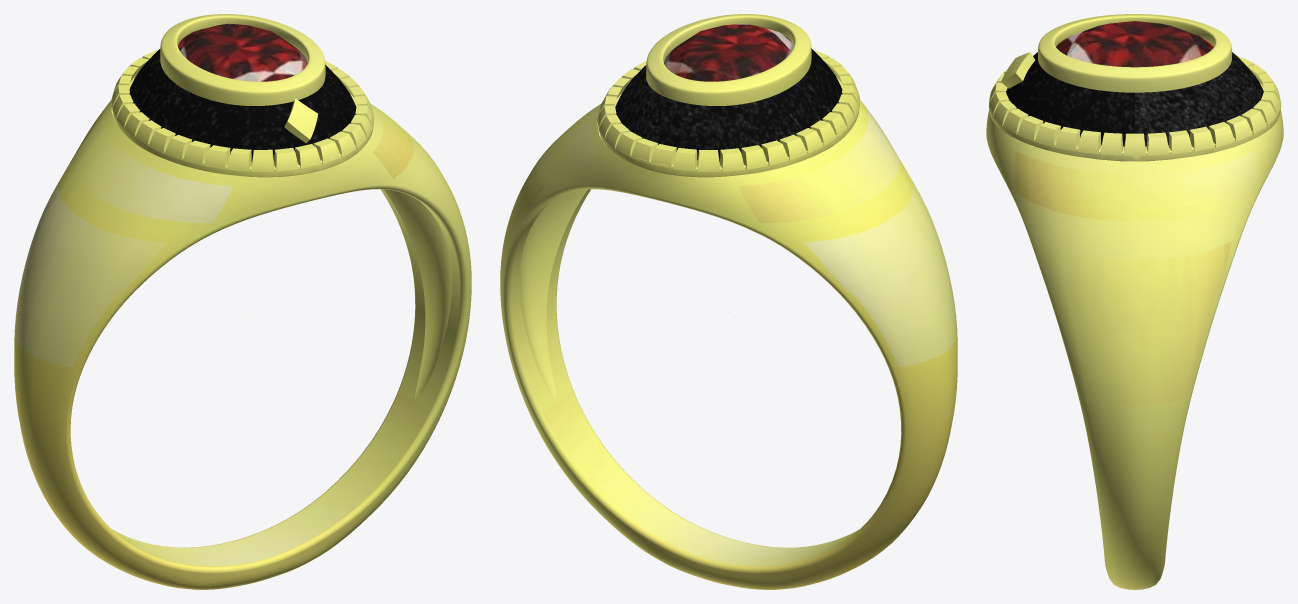
Rendered from ring35.glb.
3 renders of one model, left to right at view 1: azimuth 30°, elevation 25°; view 2: azimuth 150°, elevation 25°; view 3: azimuth 270°, elevation 25°, orthographic.
Visible parts, largest first — view 1: body, black, core; view 2: body, black, core; view 3: body, black, core.
Part boxes in pixels (<box>): body: <box>14,14,471,589</box>; black: <box>129,49,356,161</box>; core: <box>178,23,307,81</box>; body: <box>500,14,957,589</box>; black: <box>615,48,842,162</box>; core: <box>664,23,793,81</box>; body: <box>986,14,1283,589</box>; black: <box>1006,52,1263,146</box>; core: <box>1056,21,1213,67</box>.
Size of the model in its own units: 24.38 by 28.19 by 14.37.
Materials: 4 (4 with a texture image).
